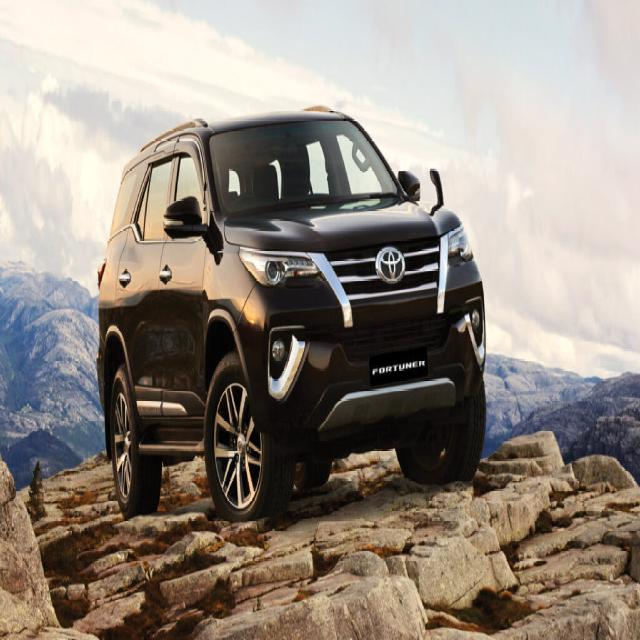light_vehicle: (96, 107, 488, 524)
